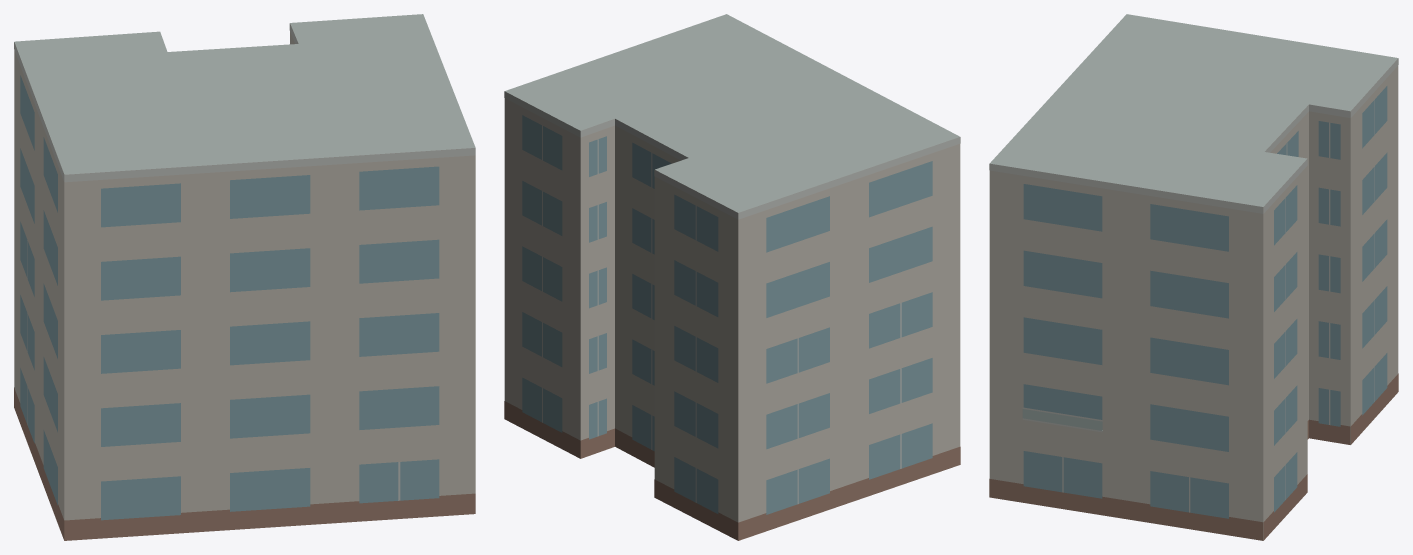
Rendered from survey-upis-32878851.glb.
3 views of the same model, side by side, from view 1: azimuth 30°, elevation 25°; view 2: azimuth 150°, elevation 25°; view 3: azimuth 270°, elevation 25° (orthographic). The views are drawn at different scales.
Parts seen in each view (by area): view 1: survey-upis-32878851.tmp; view 2: survey-upis-32878851.tmp; view 3: survey-upis-32878851.tmp.
Boxes of the visible parts, box(x1,y1,x2,y2) form: survey-upis-32878851.tmp: box(14, 14, 475, 540); survey-upis-32878851.tmp: box(504, 14, 960, 540); survey-upis-32878851.tmp: box(989, 14, 1398, 540).
Bounding box in the file's own units: 14.65 × 11.8 × 13.11.
